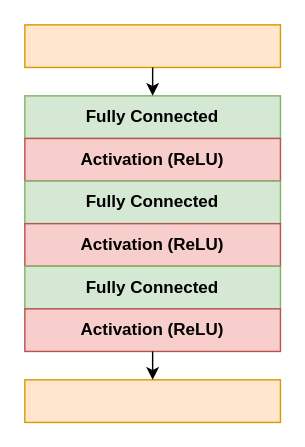
Image size: 305x447. Some labels were removed from this diagram. Each missing label, with the box of its shape:
INPUT: (23, 23, 280, 67)
OUTPUT: (23, 378, 280, 422)
